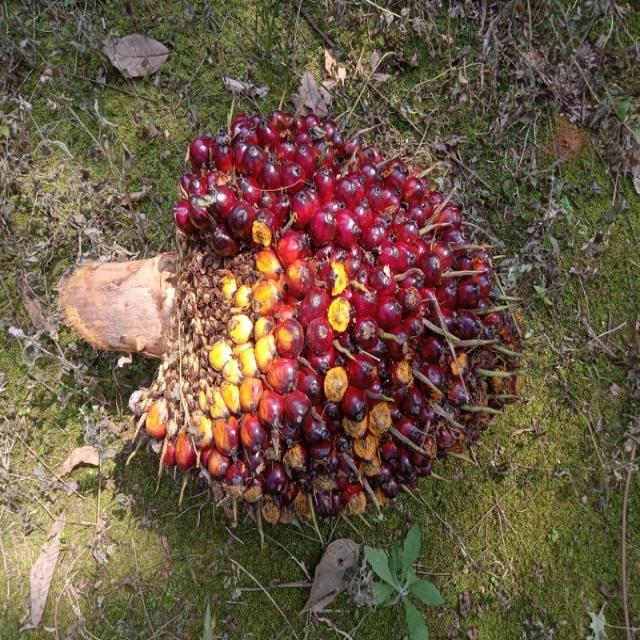fraksi 1: (116, 54, 559, 598)
